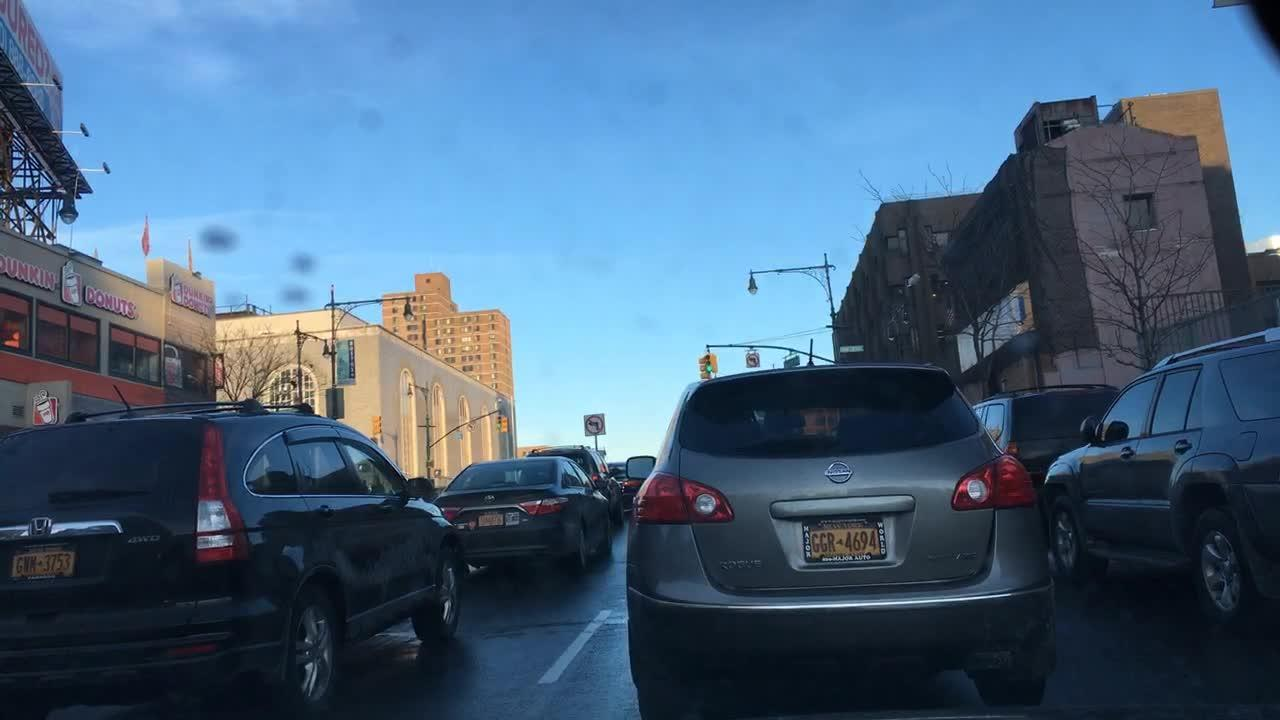Nissan: (822, 458, 856, 486)
